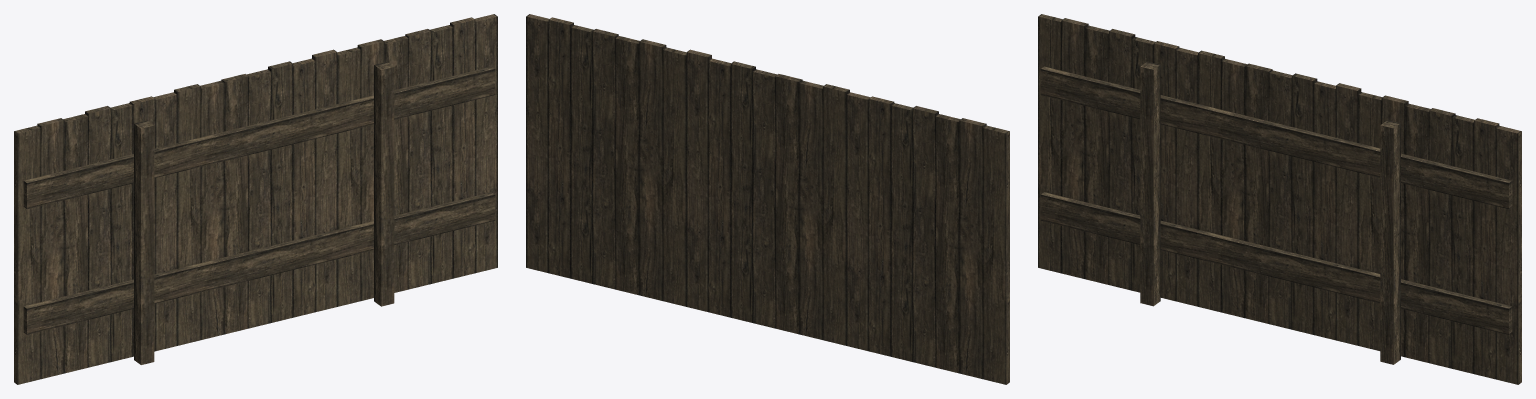
File: fence_a_1.dae
3 renders of one model, left to right at view 1: azimuth 30°, elevation 25°; view 2: azimuth 150°, elevation 25°; view 3: azimuth 330°, elevation 25°, orthographic.
Parts seen in each view (by area): view 1: fence_a_1; view 2: fence_a_1; view 3: fence_a_1.
Part boxes in pixels (left/top/right/bottom): fence_a_1: left=14, top=14, right=497, bottom=384; fence_a_1: left=526, top=14, right=1009, bottom=384; fence_a_1: left=1038, top=14, right=1521, bottom=384.
Bounding box in the file's own units: 4 × 0.2033 × 2.03.
1 material, 1 textured.
